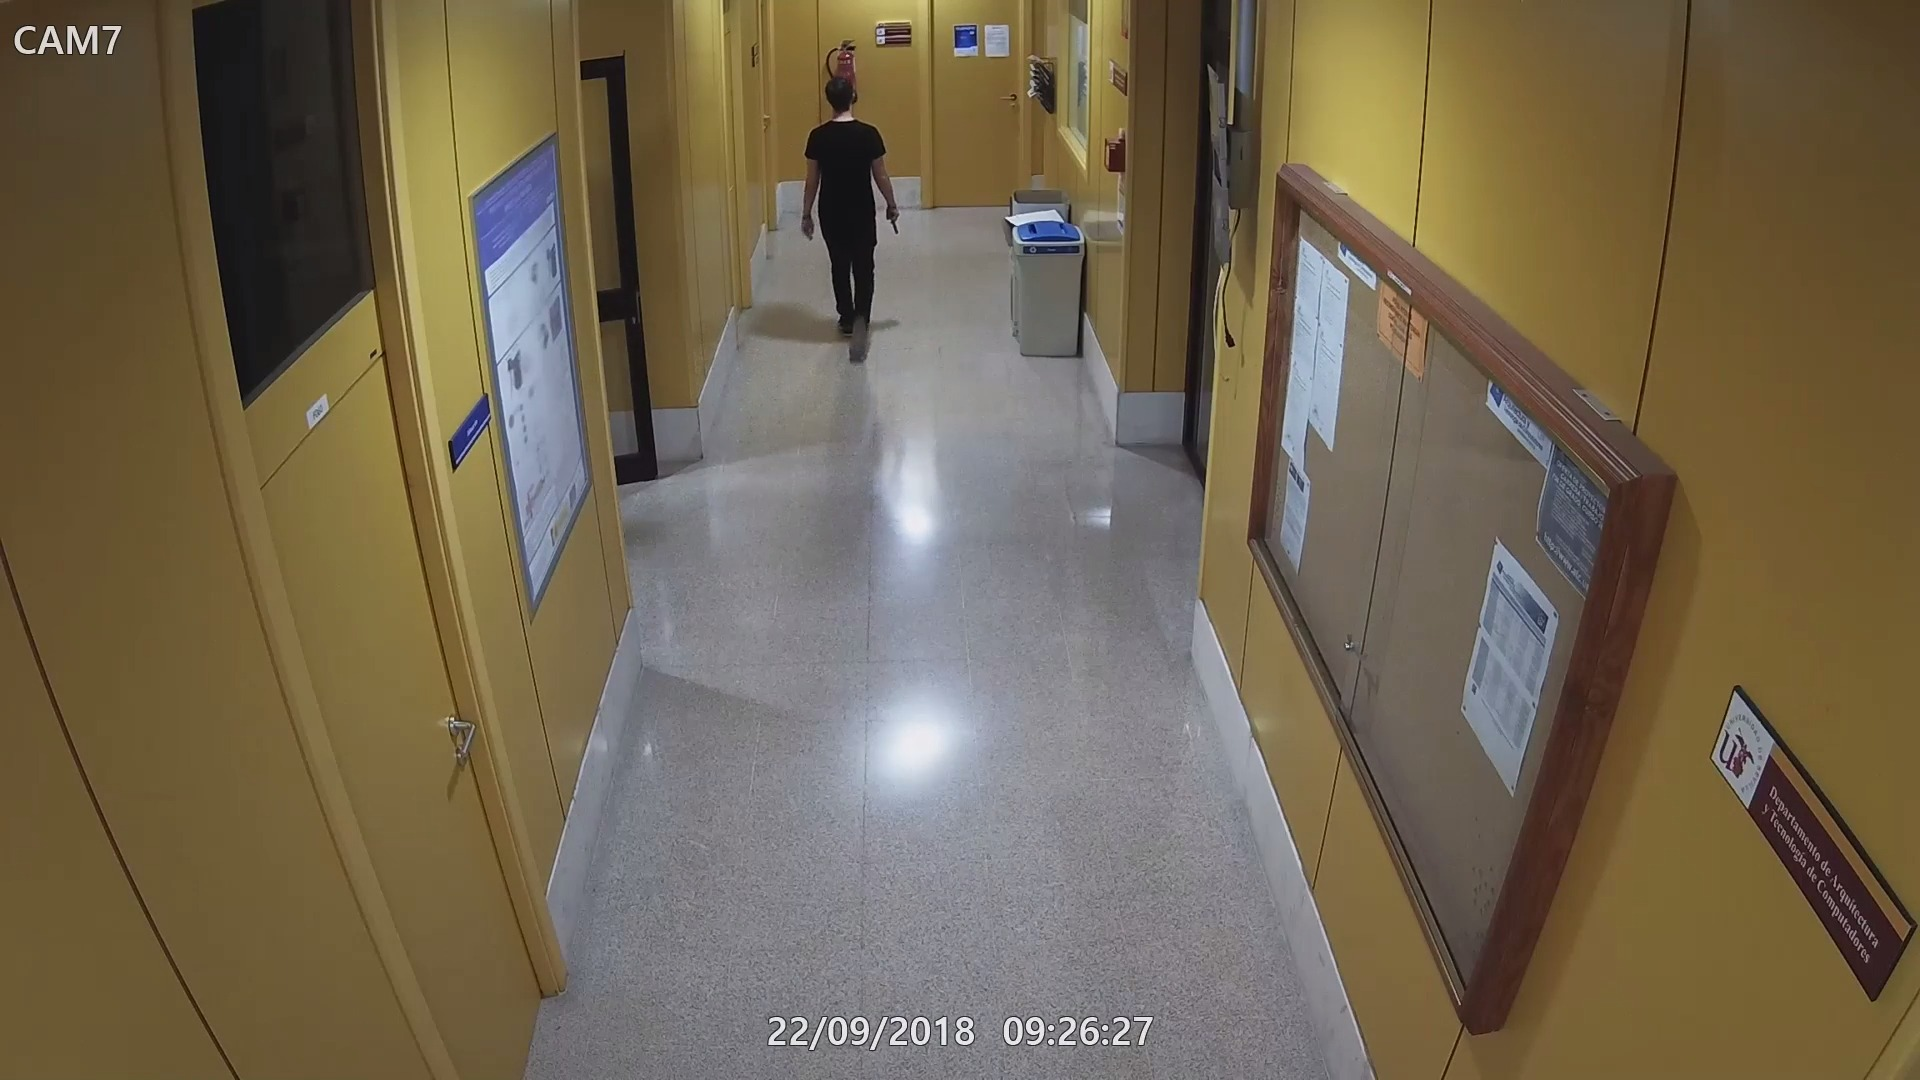pistol: (880, 203, 906, 236)
